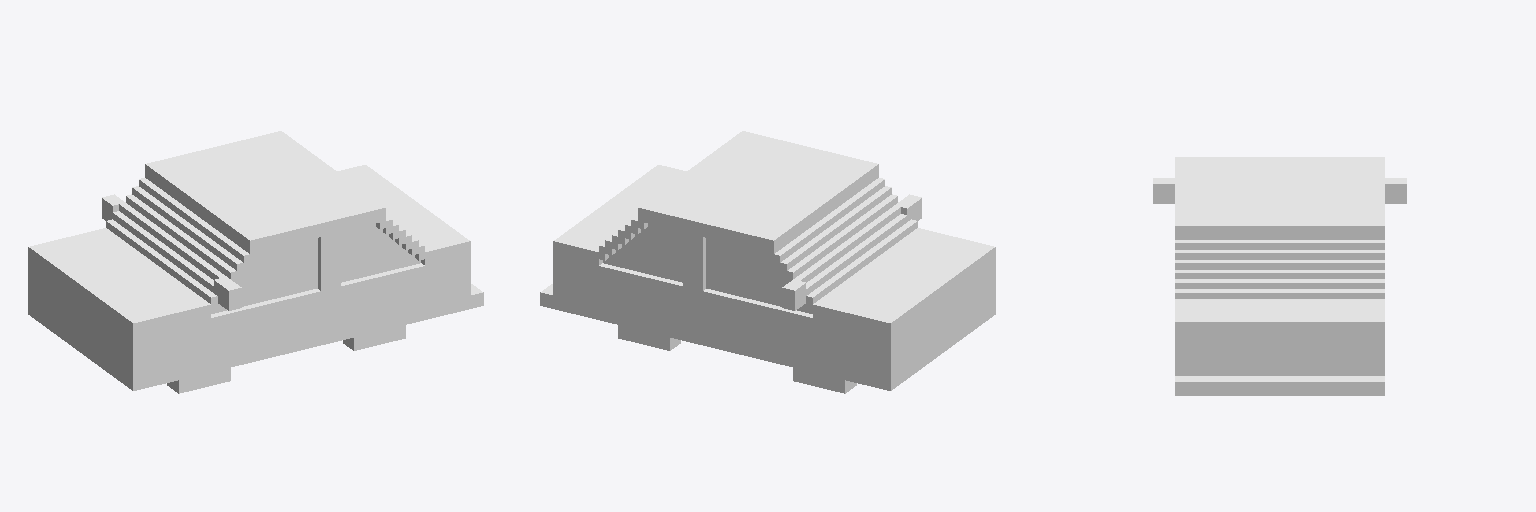
The model's file is car-sedan-b.obj.
The picture shows the model from 3 angles: view 1: azimuth 30°, elevation 25°; view 2: azimuth 150°, elevation 25°; view 3: azimuth 270°, elevation 25°; orthographic projection.
Visible parts, largest first — view 1: car:sedan-b; view 2: car:sedan-b; view 3: car:sedan-b.
Boxes of the visible parts, <box> form: car:sedan-b: <box>28,131,483,393</box>; car:sedan-b: <box>540,131,995,393</box>; car:sedan-b: <box>1153,157,1406,395</box>.
Size of the model in its own units: 54 by 20 by 34.